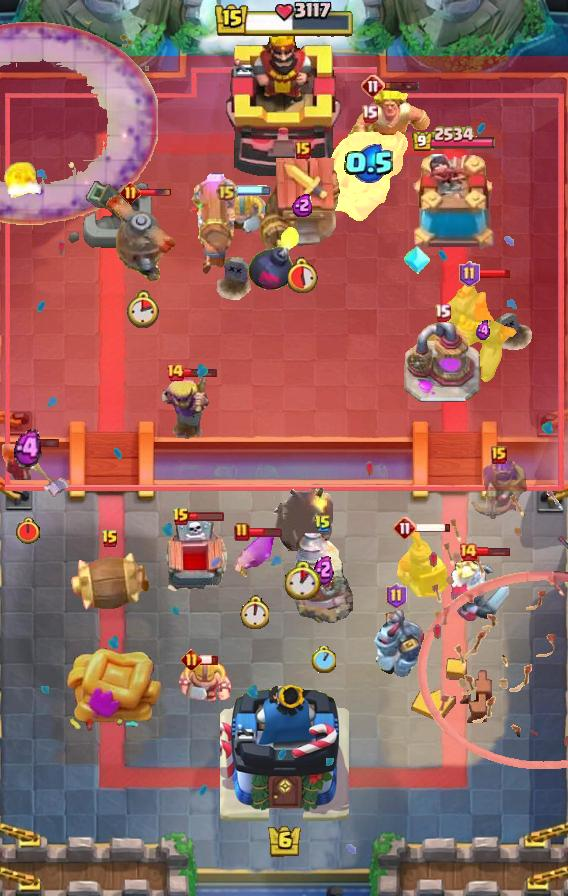arrows: (160, 369, 212, 419)
baby-dragon: (247, 224, 301, 292), (274, 489, 333, 551)
barbarian-hut: (463, 456, 535, 522)
battle-healer: (190, 173, 236, 277)
cannoneer-tower: (439, 278, 527, 384)
clock: (213, 0, 355, 40)
dark-prince: (95, 195, 189, 281)
earthquake: (396, 529, 450, 599)
electro-spirit: (344, 145, 395, 184), (14, 428, 42, 468), (314, 555, 335, 586), (292, 193, 314, 217), (477, 320, 492, 341)
elixir: (285, 560, 321, 599), (125, 290, 159, 328), (288, 257, 319, 293), (239, 595, 269, 629), (15, 517, 41, 545), (312, 646, 337, 673)
elixir-golem-mid: (160, 514, 230, 600)
elixir-golem-small: (366, 608, 426, 678)
emote: (25, 436, 60, 449), (384, 80, 421, 92), (248, 526, 284, 538), (183, 366, 218, 378), (187, 511, 225, 522), (416, 523, 453, 534), (235, 185, 271, 196), (476, 546, 511, 557), (477, 269, 511, 280), (138, 188, 172, 198), (199, 654, 219, 666)
giant: (228, 531, 280, 581)
goblin-giant: (178, 656, 232, 704), (220, 190, 268, 233)
goblin-hut: (344, 88, 432, 164)
hog-rider: (0, 442, 70, 498)
king-tower: (219, 678, 349, 826), (224, 29, 344, 181)
lava-hound: (328, 128, 410, 224)
magic-archer: (293, 532, 353, 624)
mortar-evolution: (447, 555, 511, 627)
pad_2: (402, 245, 432, 275)
pekka: (403, 322, 481, 404)
queen-tower: (405, 154, 501, 256)
rocket: (0, 21, 158, 225)
selected: (412, 126, 497, 154)
skeleton-barrel: (416, 489, 567, 769)
sparky: (260, 157, 346, 255)
text: (361, 74, 385, 98), (393, 516, 417, 540), (460, 261, 481, 287), (385, 583, 406, 609), (214, 179, 237, 202), (181, 649, 202, 671), (119, 182, 140, 203), (165, 362, 185, 382), (458, 542, 478, 562), (172, 507, 190, 527), (314, 514, 332, 534), (101, 529, 119, 549), (433, 302, 451, 321), (234, 522, 250, 542), (361, 105, 378, 123), (295, 141, 311, 159), (491, 446, 507, 464)
the-log: (68, 550, 152, 612)
valkyrie: (0, 158, 48, 202)
